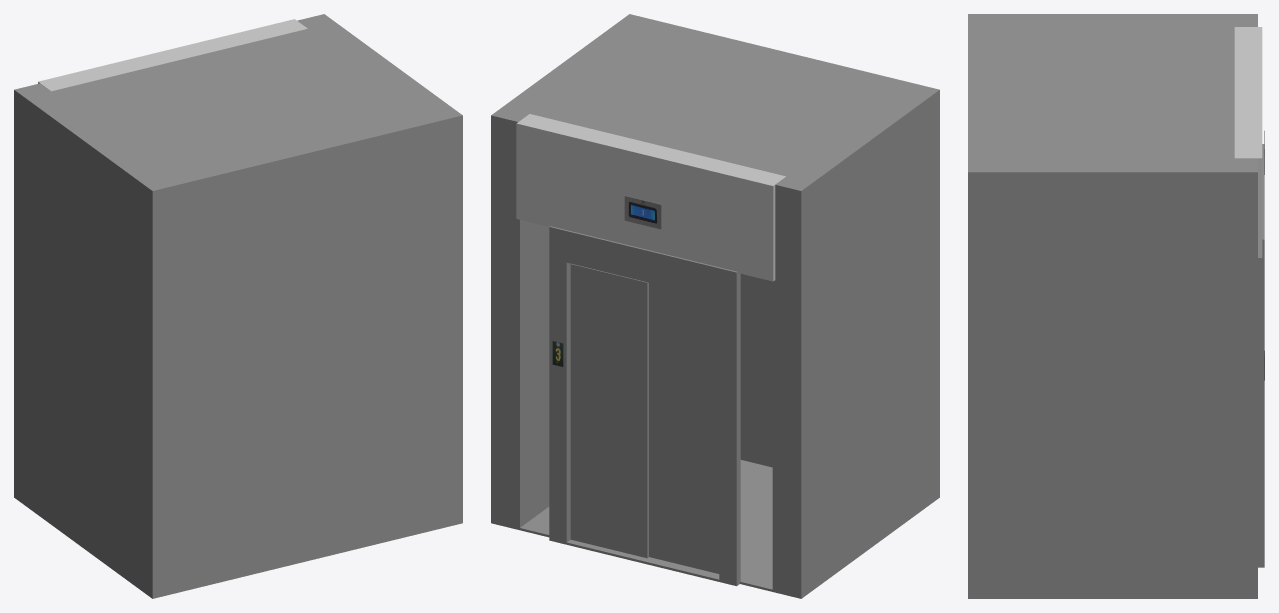
The model's file is lift.dae.
3 renders of one model, left to right at view 1: azimuth 30°, elevation 25°; view 2: azimuth 150°, elevation 25°; view 3: azimuth 270°, elevation 25°, orthographic. The views are drawn at different scales.
Parts seen in each view (by area): view 1: Lift; view 2: Lift; view 3: Lift.
Part boxes in pixels (x1=…): Lift: x1=14, y1=14, x2=462, y2=598; Lift: x1=491, y1=14, x2=939, y2=598; Lift: x1=968, y1=14, x2=1264, y2=598.
Bounding box in the file's own units: 2.39 × 1.89 × 3.01.
Materials: 4 (2 with a texture image).
